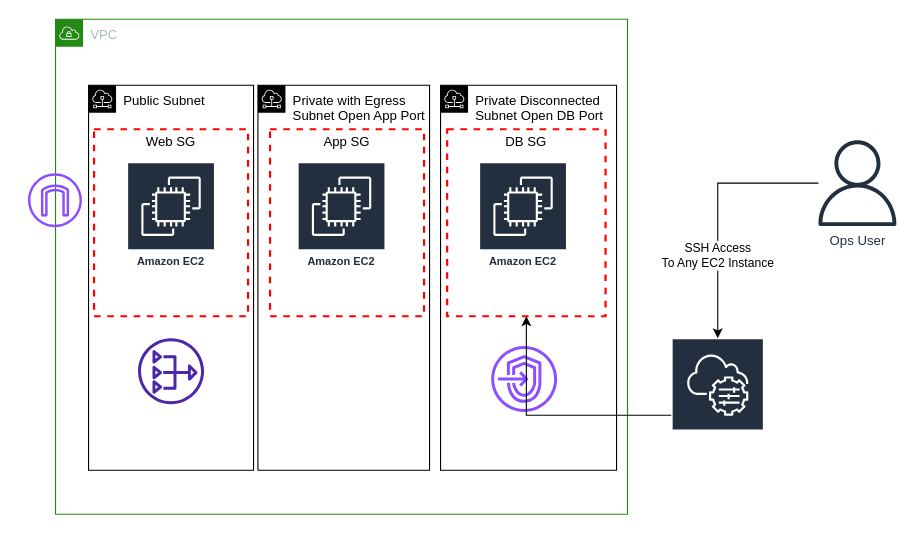
Some shapes in this 919 by 534 pixel diagram are drawn without their labels. The shapes that lost their labels are listed below. From the top down, each one's centre as x and y in pixels, then its label:
the point at 54,200: Internet GW
the point at 171,371: NAT GW
the point at 524,378: System Mangaer VPC Endpoint
the point at 717,414: AWS Systems ManaSession Manager
